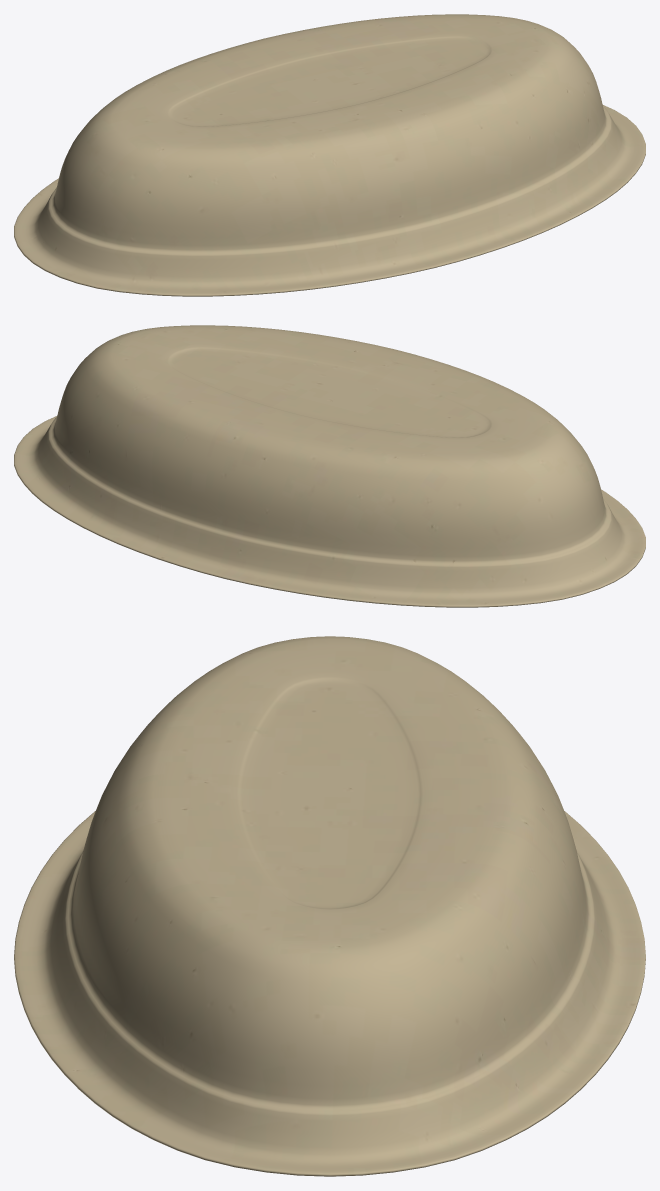
The model's file is 64-oval-bowl-clean-transformed.glb.
The picture shows the model from 3 angles, top to bottom: view 1: azimuth 30°, elevation 25°; view 2: azimuth 150°, elevation 25°; view 3: azimuth 270°, elevation 25°; orthographic projection. The views are drawn at different scales.
Parts seen in each view (by area): view 1: Oval_Bowl_Lid; view 2: Oval_Bowl_Lid; view 3: Oval_Bowl_Lid.
Part boxes in pixels (box(x1,y1,x2,y2)): Oval_Bowl_Lid: box(14, 14, 645, 296); Oval_Bowl_Lid: box(14, 325, 645, 607); Oval_Bowl_Lid: box(14, 636, 645, 1176).
Size of the model in its own units: 0.2477 by 0.0442 by 0.1516.
1 material, 1 textured.
